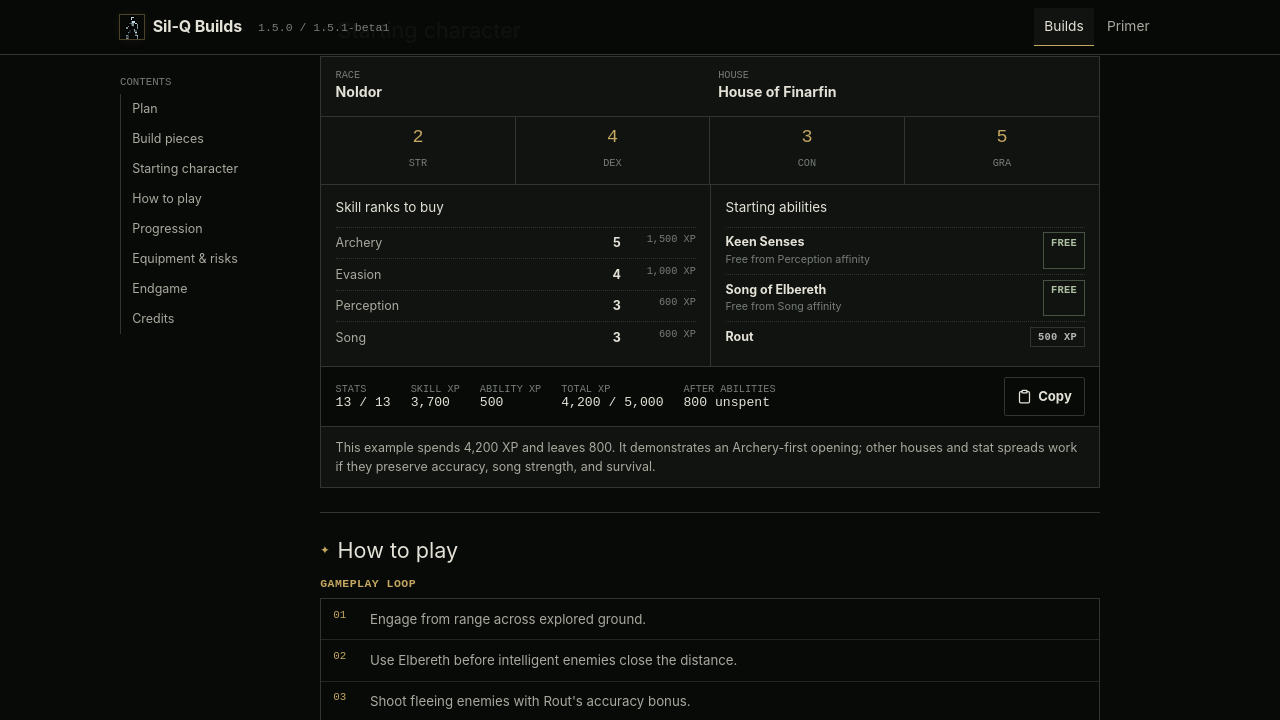
it: site routes and interactions › copies the starting character setup
(page scrolled)
Click the button "Copy". click: (1044, 396)
box: [1004, 377, 1085, 416]
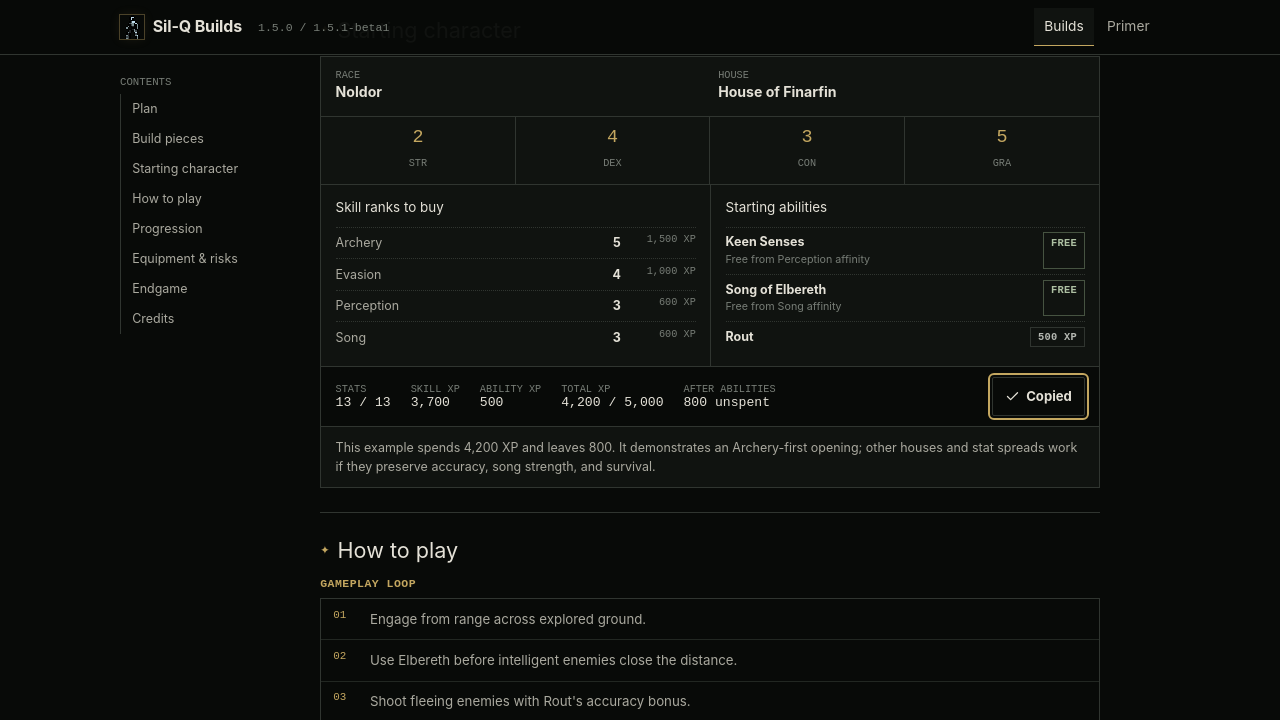
Check: the button "Copied" is shown, box [992, 377, 1085, 416]
